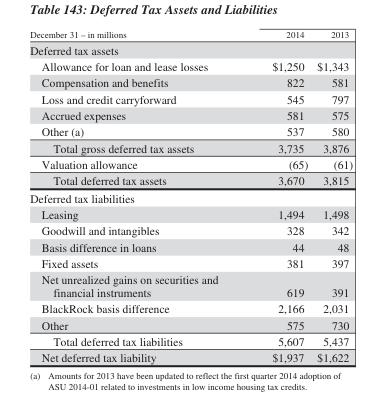table: (29, 29, 352, 363)
table column: (29, 29, 244, 363), (244, 29, 311, 363), (311, 29, 352, 363)
table column header: (29, 29, 352, 41)
table projected row header: (29, 41, 352, 57), (29, 189, 352, 205)
table row: (29, 271, 352, 300), (29, 57, 352, 74), (29, 106, 352, 123), (29, 155, 352, 172), (29, 172, 352, 189), (29, 205, 352, 222), (29, 254, 352, 271), (29, 332, 352, 349), (29, 41, 352, 57), (29, 74, 352, 90), (29, 90, 352, 106), (29, 123, 352, 139), (29, 139, 352, 155), (29, 189, 352, 205), (29, 222, 352, 238), (29, 238, 352, 254), (29, 300, 352, 316), (29, 316, 352, 332), (29, 349, 352, 363), (29, 29, 352, 41)
